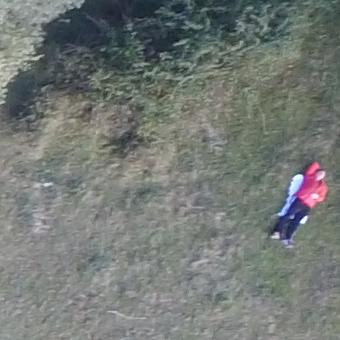human: (271, 162, 329, 243)
